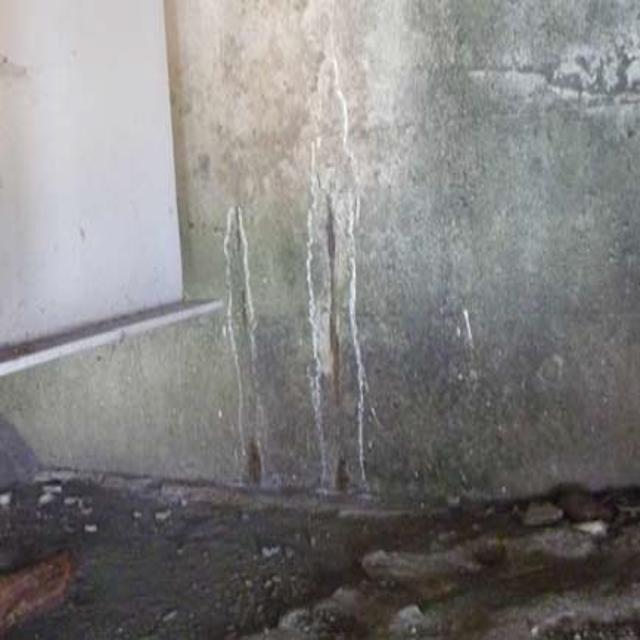freelime: (488, 21, 640, 108)
spalling: (297, 33, 356, 391)
